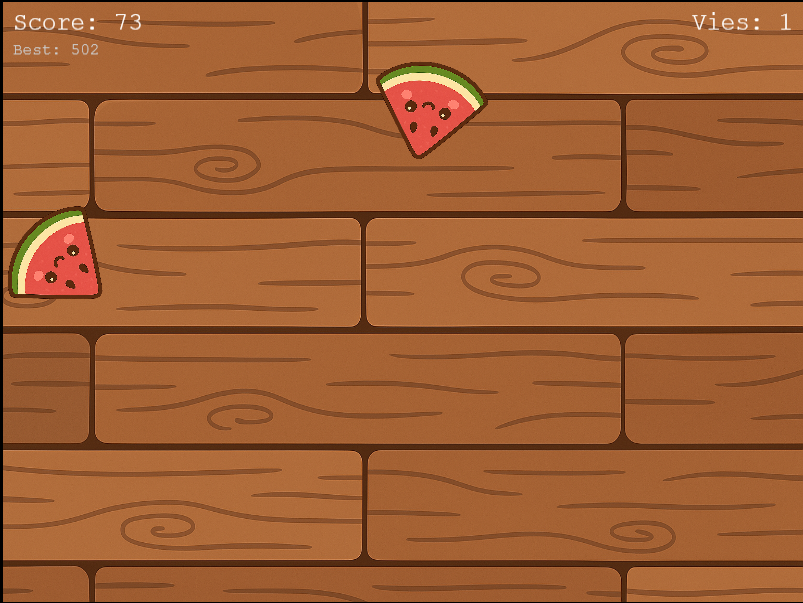fruit: (368, 39, 496, 167), (3, 199, 118, 314)
